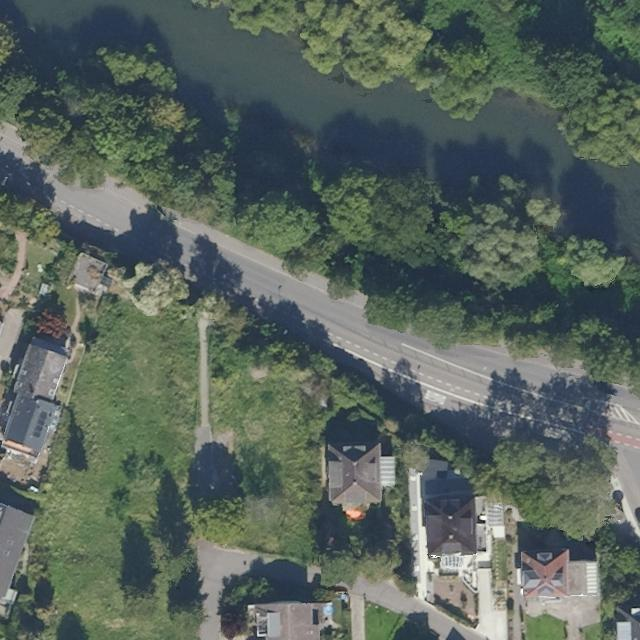PV: (31, 410, 50, 440)
